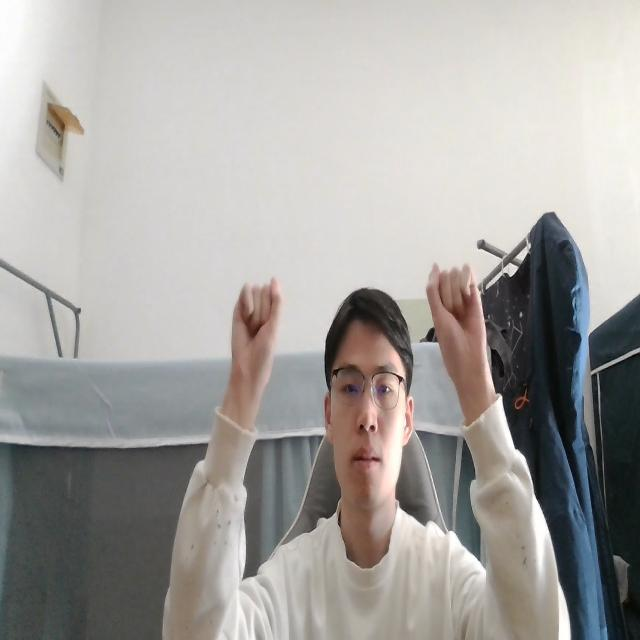ten: (424, 257, 494, 407), (223, 272, 286, 416)
